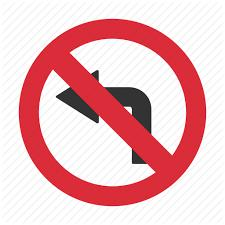no_left_turn: (17, 18, 205, 205)
